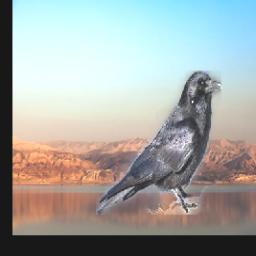Crow: (97, 72, 222, 216)
